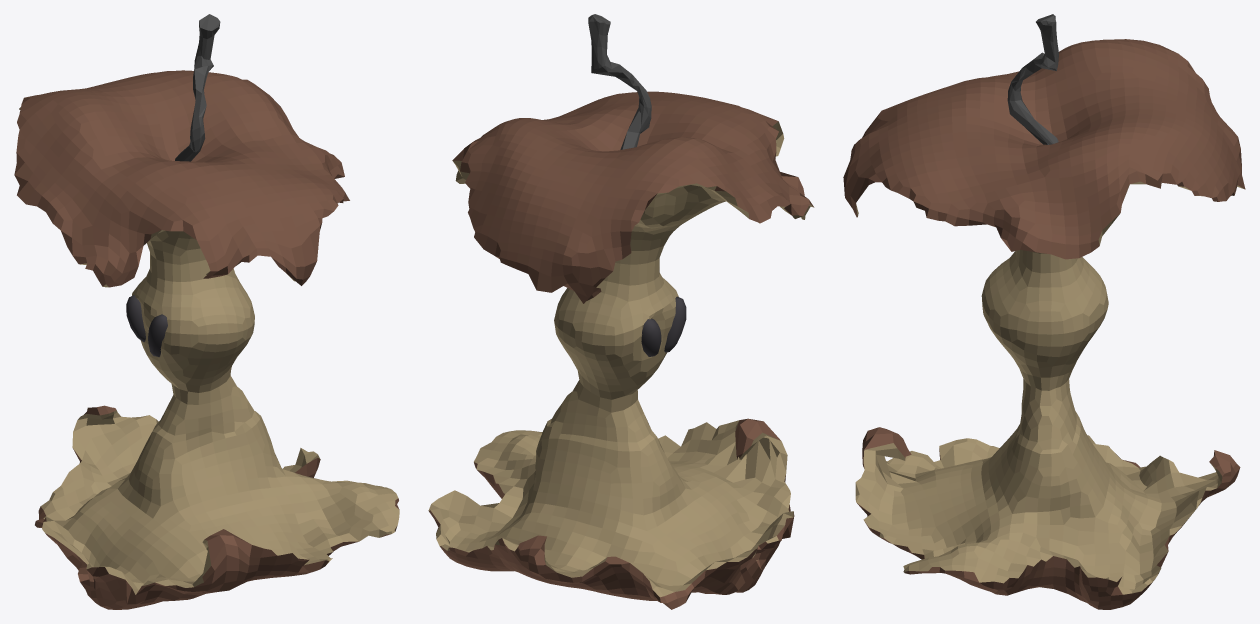
Rendered from eatedapple.fbx.
3 views of the same model, side by side, from view 1: azimuth 30°, elevation 25°; view 2: azimuth 150°, elevation 25°; view 3: azimuth 270°, elevation 25° (orthographic). The views are drawn at different scales.
Visible parts, largest first — view 1: Line002.006, 柱体.001, 立方体.003, 立方体.002; view 2: Line002.006, 柱体.001, 立方体.003, 立方体.002; view 3: Line002.006, 柱体.001.
Boxes of the visible parts, <box> form: Line002.006: <box>14,70,399,609</box>; 柱体.001: <box>175,14,220,161</box>; 立方体.003: <box>148,314,167,357</box>; 立方体.002: <box>126,295,145,342</box>; Line002.006: <box>428,91,814,609</box>; 柱体.001: <box>588,14,651,149</box>; 立方体.003: <box>664,296,686,352</box>; 立方体.002: <box>641,318,661,356</box>; Line002.006: <box>843,39,1245,609</box>; 柱体.001: <box>1007,14,1058,144</box>.
Bounding box in the file's own units: 233 × 375 × 245.
